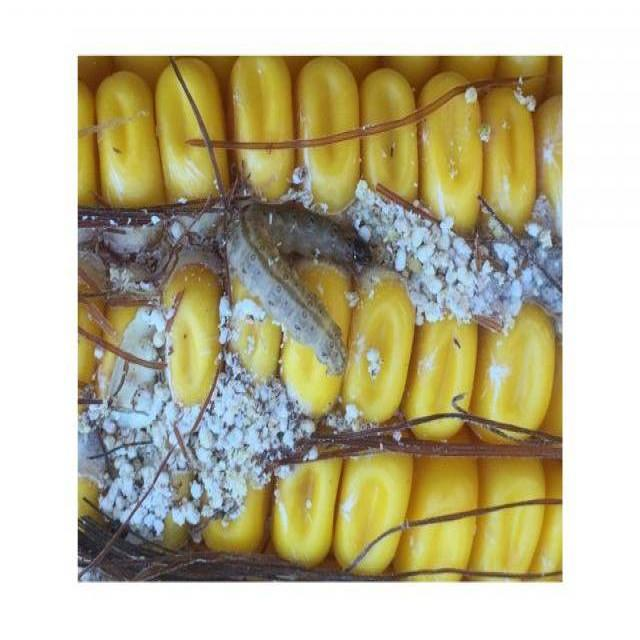cornborer-Larva-: (222, 198, 380, 380)
